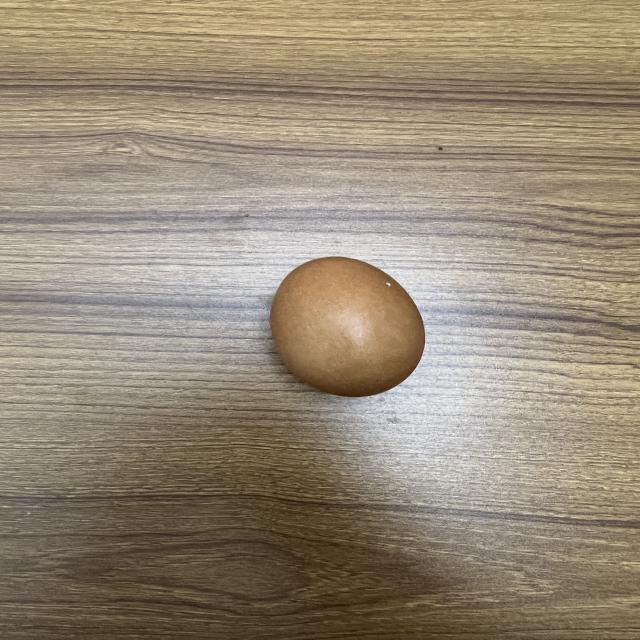Egg: (259, 251, 434, 400)
